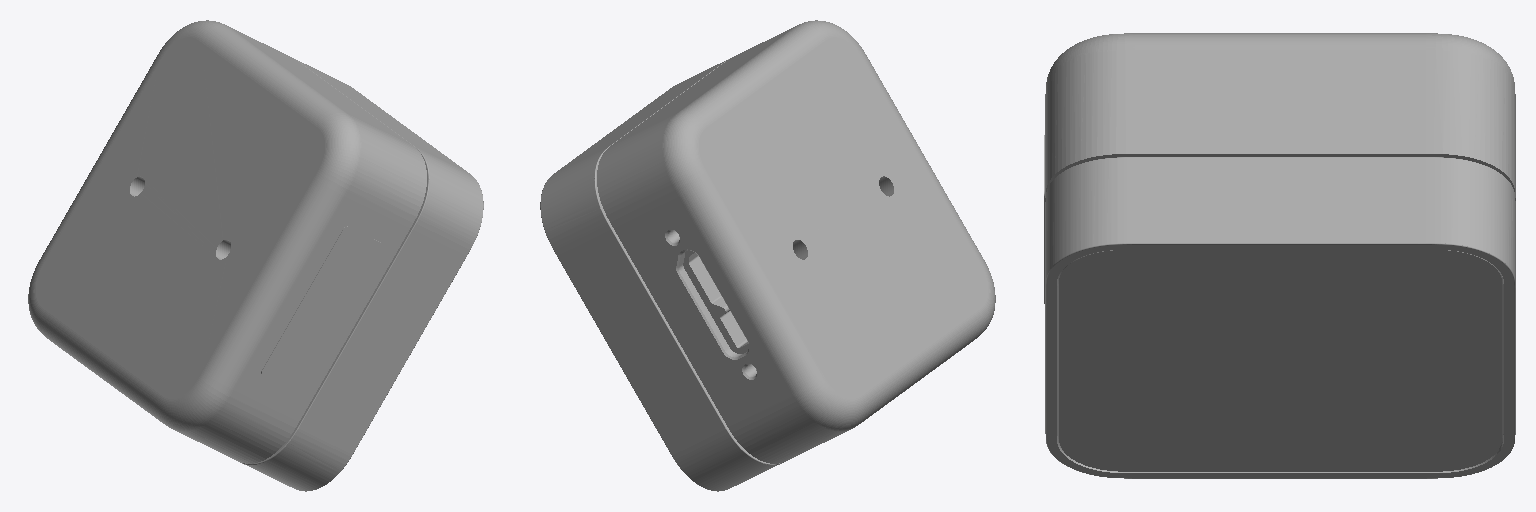
robot.urdf — converted_robot:
<?xml version="1.0" ?>
<robot name="converted_robot">
   <!--generated with mjcf_urdf_simple_converter (https://github.com/Yasu31/mjcf_urdf_simple_converter)-->
   <link name="world">
      <inertial>
         <origin xyz="0.0 0.0 0.0" rpy="0.0 0.0 0.0"/>
         <mass value="0.0"/>
         <inertia ixx="0.0" iyy="0.0" izz="0.0" ixy="0" ixz="0" iyz="0"/>
      </inertial>
   </link>
   <link name="left_arm">
      <inertial>
         <origin xyz="0.0 0.0 0.026" rpy="0.0 0.0 0.0"/>
         <mass value="0.21895644158459424"/>
         <inertia ixx="0.00013879124248906134" iyy="0.00013879124248906134" izz="0.00010282878735692499" ixy="0" ixz="0" iyz="0"/>
      </inertial>
      <visual name="model2">
         <origin xyz="-2.0738360577213484e-05 2.041311002275178e-05 0.01154286287615687" rpy="1.5701130102263443 0.005344186766801151 -3.1414365496107033"/>
         <geometry>
            <mesh filename="meshes/converted_model2_808080ff.obj"/>
         </geometry>
      </visual>
   </link>
   <joint type="fixed" name="world2left_arm_fixed">
      <parent link="world"/>
      <child link="left_arm"/>
      <origin xyz="0.0 0.0 0.0" rpy="0.0 0.0 0.0"/>
   </joint>
   <link name="left_link_1">
      <inertial>
         <origin xyz="-0.00192861 -0.00795735 0.0208176" rpy="1.6743480392523338 -0.6015439689011491 1.5666873963753192"/>
         <mass value="0.12415"/>
         <inertia ixx="0.000180751" iyy="0.000145532" izz="5.89179e-05" ixy="0" ixz="0" iyz="0"/>
      </inertial>
      <visual name="model2__2">
         <origin xyz="0.0007117901440024366 -0.008267794027987337 0.022250179687008112" rpy="1.5650454550240567 -0.6317582807873867 1.5710673633815686"/>
         <geometry>
            <mesh filename="meshes/converted_model2__2_808080ff.obj"/>
         </geometry>
      </visual>
   </link>
   <link name="left_joint1_jointbody">
      <inertial>
         <origin xyz="0.0 0.0 0.0" rpy="0.0 0.0 0.0"/>
         <mass value="0.001"/>
         <inertia ixx="1e-09" iyy="1e-09" izz="1e-09" ixy="0" ixz="0" iyz="0"/>
      </inertial>
   </link>
   <joint type="revolute" name="left_joint1">
      <parent link="left_arm"/>
      <child link="left_joint1_jointbody"/>
      <origin xyz="0.0 0.0 0.0631" rpy="0.0 0.0 1.5707963267948963"/>
      <axis xyz="0.0 0.0 1.0"/>
      <limit lower="-2.61799" upper="3.05433" effort="100" velocity="100"/>
   </joint>
   <joint type="fixed" name="left_joint1_offset">
      <parent link="left_joint1_jointbody"/>
      <child link="left_link_1"/>
      <origin xyz="-0.0 -0.0 -0.0" rpy="0.0 0.0 0.0"/>
   </joint>
   <link name="left_link_2">
      <inertial>
         <origin xyz="0.132008 2.10599e-06 0.000293073" rpy="1.5707963267948966 0.0 1.5707963267948966"/>
         <mass value="1.24434"/>
         <inertia ixx="0.0121902" iyy="0.0121318" izz="0.000683304" ixy="0" ixz="0" iyz="0"/>
      </inertial>
      <visual name="model2__3">
         <origin xyz="0.26007948449650414 2.5977632368834325e-07 0.00022869283697025413" rpy="0.0012886015838013758 0.0 1.5707963267948966"/>
         <geometry>
            <mesh filename="meshes/converted_model2__3_808080ff.obj"/>
         </geometry>
      </visual>
      <visual name="model2__4">
         <origin xyz="0.003920561027152974 2.5977629421192194e-07 0.00022869282878015162" rpy="-0.0012886020855807743 0.0 1.5707963267948966"/>
         <geometry>
            <mesh filename="meshes/converted_model2__4_808080ff.obj"/>
         </geometry>
      </visual>
      <visual name="model2__5">
         <origin xyz="0.1320117461361114 -1.306943646950387e-05 9.079293692478702e-08" rpy="1.5720341600620127 -1.5679213575591051 -1.5720413321413815"/>
         <geometry>
            <mesh filename="meshes/converted_model2__5_808080ff.obj"/>
         </geometry>
      </visual>
   </link>
   <link name="left_joint2_jointbody">
      <inertial>
         <origin xyz="0.0 0.0 0.0" rpy="0.0 0.0 0.0"/>
         <mass value="0.001"/>
         <inertia ixx="1e-09" iyy="1e-09" izz="1e-09" ixy="0" ixz="0" iyz="0"/>
      </inertial>
   </link>
   <joint type="revolute" name="left_joint2">
      <parent link="left_link_1"/>
      <child link="left_joint2_jointbody"/>
      <origin xyz="2.5e-05 -0.02 0.0409" rpy="1.5707963267948966 0.0 1.5707963267948966"/>
      <axis xyz="0.0 0.0 1.0"/>
      <limit lower="0.0" upper="3.66519" effort="100" velocity="100"/>
   </joint>
   <joint type="fixed" name="left_joint2_offset">
      <parent link="left_joint2_jointbody"/>
      <child link="left_link_2"/>
      <origin xyz="-0.0 -0.0 -0.0" rpy="0.0 0.0 0.0"/>
   </joint>
   <link name="left_link_3">
      <inertial>
         <origin xyz="-0.121816 -0.054846 -0.000111108" rpy="1.5707963267948966 0.0 1.5707963267948966"/>
         <mass value="0.853698"/>
         <inertia ixx="0.00699732" iyy="0.00696112" izz="0.000788244" ixy="0" ixz="0" iyz="0"/>
      </inertial>
      <visual name="model2__6">
         <origin xyz="-0.24063976713274154 -0.059999782142154706 -0.003760273578300405" rpy="3.0364915071378875 0.0 -1.5707963267948968"/>
         <geometry>
            <mesh filename="meshes/converted_model2__6_808080ff.obj"/>
         </geometry>
      </visual>
      <visual name="model2__7">
         <origin xyz="-0.007710009148021196 -0.03486048010433765 0.0347071645682882" rpy="-2.87879006743723 1.4720957652931421 1.6013719605643306"/>
         <geometry>
            <mesh filename="meshes/converted_model2__7_808080ff.obj"/>
         </geometry>
      </visual>
      <visual name="model2__8">
         <origin xyz="-0.1206720859561709 -0.06001334031535149 5.408345552423209e-07" rpy="1.5707945314613085 0.0026832997041226214 -1.570809065297576"/>
         <geometry>
            <mesh filename="meshes/converted_model2__8_808080ff.obj"/>
         </geometry>
      </visual>
      <visual name="model2__9">
         <origin xyz="-0.008240431625057998 -0.03737256683266851 -0.033699619180835645" rpy="0.28836143122615043 1.443690062944695 -1.515041718980295"/>
         <geometry>
            <mesh filename="meshes/converted_model2__9_808080ff.obj"/>
         </geometry>
      </visual>
   </link>
   <link name="left_joint3_jointbody">
      <inertial>
         <origin xyz="0.0 0.0 0.0" rpy="0.0 0.0 0.0"/>
         <mass value="0.001"/>
         <inertia ixx="1e-09" iyy="1e-09" izz="1e-09" ixy="0" ixz="0" iyz="0"/>
      </inertial>
   </link>
   <joint type="revolute" name="left_joint3">
      <parent link="left_link_2"/>
      <child link="left_joint3_jointbody"/>
      <origin xyz="0.264 0.0 0.0" rpy="3.141592653589793 0.0 0.0"/>
      <axis xyz="0.0 0.0 1.0"/>
      <limit lower="0.0" upper="3.66519" effort="100" velocity="100"/>
   </joint>
   <joint type="fixed" name="left_joint3_offset">
      <parent link="left_joint3_jointbody"/>
      <child link="left_link_3"/>
      <origin xyz="-0.0 -0.0 -0.0" rpy="0.0 0.0 0.0"/>
   </joint>
   <link name="left_link_4">
      <inertial>
         <origin xyz="-0.0769778 -0.0527104 0.000154878" rpy="1.5707963267948966 0.0 -0.6801532171449441"/>
         <mass value="0.463511"/>
         <inertia ixx="0.000791532" iyy="0.000744733" izz="0.000282116" ixy="0" ixz="0" iyz="0"/>
      </inertial>
      <visual name="model2__10">
         <origin xyz="-0.046776068687813616 -0.038270471745625256 -0.0008915243508352188" rpy="1.5394854457020648 0.021662003917252814 -0.7117475435376935"/>
         <geometry>
            <mesh filename="meshes/converted_model2__10_808080ff.obj"/>
         </geometry>
      </visual>
   </link>
   <link name="left_joint4_jointbody">
      <inertial>
         <origin xyz="0.0 0.0 0.0" rpy="0.0 0.0 0.0"/>
         <mass value="0.001"/>
         <inertia ixx="1e-09" iyy="1e-09" izz="1e-09" ixy="0" ixz="0" iyz="0"/>
      </inertial>
   </link>
   <joint type="revolute" name="left_joint4">
      <parent link="left_link_3"/>
      <child link="left_joint4_jointbody"/>
      <origin xyz="-0.245 -0.06 0.0" rpy="0.0 0.0 0.0"/>
      <axis xyz="0.0 0.0 1.0"/>
      <limit lower="-1.5708" upper="1.5708" effort="100" velocity="100"/>
   </joint>
   <joint type="fixed" name="left_joint4_offset">
      <parent link="left_joint4_jointbody"/>
      <child link="left_link_4"/>
      <origin xyz="-0.0 -0.0 -0.0" rpy="0.0 0.0 0.0"/>
   </joint>
   <link name="left_link_5">
      <inertial>
         <origin xyz="3.64861e-05 0.00025665 0.0353526" rpy="0.0 0.0 0.0"/>
         <mass value="0.350962"/>
         <inertia ixx="0.000197802" iyy="0.0001775" izz="0.000147402" ixy="0" ixz="0" iyz="0"/>
      </inertial>
      <visual name="model2__11">
         <origin xyz="5.815639855540116e-05 -0.0005553836621680353 0.03206235288381598" rpy="2.67318045036048 0.0016544870659682687 -0.01152938218496731"/>
         <geometry>
            <mesh filename="meshes/converted_model2__11_808080ff.obj"/>
         </geometry>
      </visual>
   </link>
   <link name="left_joint5_jointbody">
      <inertial>
         <origin xyz="0.0 0.0 0.0" rpy="0.0 0.0 0.0"/>
         <mass value="0.001"/>
         <inertia ixx="1e-09" iyy="1e-09" izz="1e-09" ixy="0" ixz="0" iyz="0"/>
      </inertial>
   </link>
   <joint type="revolute" name="left_joint5">
      <parent link="left_link_4"/>
      <child link="left_joint5_jointbody"/>
      <origin xyz="-0.074 -0.0395 2.5e-05" rpy="-1.5707963267948966 1.5707963267948966 0.0"/>
      <axis xyz="0.0 0.0 1.0"/>
      <limit lower="-1.5708" upper="1.5708" effort="100" velocity="100"/>
   </joint>
   <joint type="fixed" name="left_joint5_offset">
      <parent link="left_joint5_jointbody"/>
      <child link="left_link_5"/>
      <origin xyz="-0.0 -0.0 -0.0" rpy="0.0 0.0 0.0"/>
   </joint>
   <link name="left_link_6">
      <inertial>
         <origin xyz="-0.000217767 7.37059e-05 0.0270545" rpy="1.5707963267948963 0.0 0.0"/>
         <mass value="0.367476"/>
         <inertia ixx="0.000265958" iyy="0.000242686" izz="0.000227409" ixy="0" ixz="0" iyz="0"/>
      </inertial>
      <visual name="model2__12">
         <origin xyz="8.788302043375991e-05 0.0001190912220788709 0.05116721790419726" rpy="-1.7453668887584697 1.565490971850807 -1.9699125405676954"/>
         <geometry>
            <mesh filename="meshes/converted_model2__12_808080ff.obj"/>
         </geometry>
      </visual>
      <visual name="model2__13">
         <origin xyz="-0.00017825474995774047 1.6195054943213272e-05 0.03422382038141725" rpy="-1.5799559470247646 0.8170286688385331 -0.14641337505452354"/>
         <geometry>
            <mesh filename="meshes/converted_model2__13_808080ff.obj"/>
         </geometry>
      </visual>
   </link>
   <link name="left_joint6_jointbody">
      <inertial>
         <origin xyz="0.0 0.0 0.0" rpy="0.0 0.0 0.0"/>
         <mass value="0.001"/>
         <inertia ixx="1e-09" iyy="1e-09" izz="1e-09" ixy="0" ixz="0" iyz="0"/>
      </inertial>
   </link>
   <joint type="revolute" name="left_joint6">
      <parent link="left_link_5"/>
      <child link="left_joint6_jointbody"/>
      <origin xyz="0.0 0.0353 0.0395" rpy="-1.5707963267948963 0.0 0.0"/>
      <axis xyz="0.0 0.0 1.0"/>
      <limit lower="-2.0944" upper="2.0944" effort="100" velocity="100"/>
   </joint>
   <joint type="fixed" name="left_joint6_offset">
      <parent link="left_joint6_jointbody"/>
      <child link="left_link_6"/>
      <origin xyz="-0.0 -0.0 -0.0" rpy="0.0 0.0 0.0"/>
   </joint>
   <link name="left_tcp">
      <inertial>
         <origin xyz="0.0 0.0 0.0" rpy="0.0 0.0 3.141592653589793"/>
         <mass value="0.0"/>
         <inertia ixx="0.0" iyy="0.0" izz="0.0" ixy="0" ixz="0" iyz="0"/>
      </inertial>
   </link>
   <joint type="fixed" name="left_link_62left_tcp_fixed">
      <parent link="left_link_6"/>
      <child link="left_tcp"/>
      <origin xyz="0.0 0.0 0.0" rpy="0.0 0.0 3.141592653589793"/>
   </joint>
   <link name="left_left_link_finger">
      <inertial>
         <origin xyz="-0.0192995 -0.0365902 0.039774" rpy="1.4011563087563854 -0.506094968208646 -0.4294050756265071"/>
         <mass value="0.118"/>
         <inertia ixx="0.000159084" iyy="0.000154909" izz="4.63655e-05" ixy="0" ixz="0" iyz="0"/>
      </inertial>
      <visual name="model2__14">
         <origin xyz="-0.02621919095860112 -0.050961301789609365 0.04847966761952425" rpy="1.2436149090470108 -1.3351755324428634 3.1192068678405445"/>
         <geometry>
            <mesh filename="meshes/converted_model2__14_808080ff.obj"/>
         </geometry>
      </visual>
      <visual name="model2__15">
         <origin xyz="-0.0018267628293356375 -0.014013453565219658 0.02860778296204746" rpy="-0.08499655397451025 -0.08210615684708134 0.012014286826329146"/>
         <geometry>
            <mesh filename="meshes/converted_model2__15_808080ff.obj"/>
         </geometry>
      </visual>
   </link>
   <link name="left_left_finger_jointbody">
      <inertial>
         <origin xyz="0.0 0.0 0.0" rpy="0.0 0.0 0.0"/>
         <mass value="0.001"/>
         <inertia ixx="1e-09" iyy="1e-09" izz="1e-09" ixy="0" ixz="0" iyz="0"/>
      </inertial>
   </link>
   <joint type="fixed" name="left_left_finger">
      <parent link="left_link_6"/>
      <child link="left_left_finger_jointbody"/>
      <origin xyz="-0.037 0.0392 0.0605" rpy="-0.0 1.5707963267948966 0.0"/>
   </joint>
   <joint type="fixed" name="left_left_finger_offset">
      <parent link="left_left_finger_jointbody"/>
      <child link="left_left_link_finger"/>
      <origin xyz="-0.0 -0.0 -0.0" rpy="0.0 0.0 0.0"/>
   </joint>
   <link name="left_lf_rot">
      <inertial>
         <origin xyz="-0.008421052631578949 -0.015789473684210527 0.020421052631578947" rpy="2.0371972904739044 0.3450347438073702 1.578176982162618"/>
         <mass value="0.039793506945470715"/>
         <inertia ixx="2.3910377025971746e-05" iyy="2.073020409924441e-05" izz="5.660175354997655e-06" ixy="0" ixz="0" iyz="0"/>
      </inertial>
   </link>
   <joint type="fixed" name="left_left_link_finger2left_lf_rot_fixed">
      <parent link="left_left_link_finger"/>
      <child link="left_lf_rot"/>
      <origin xyz="0.0 -0.0392 0.037" rpy="-1.5707963267948966 0.0 1.5707963267948966"/>
   </joint>
   <link name="left_lf_down">
      <inertial>
         <origin xyz="0.004865675005941529 -0.012786258560154471 0.029346031921652322" rpy="0.2519292544694713 0.2603701794465012 1.7911530895748669"/>
         <mass value="0.02077574023677297"/>
         <inertia ixx="1.576706728050404e-05" iyy="1.3071053959973094e-05" izz="3.9436752750553725e-06" ixy="0" ixz="0" iyz="0"/>
      </inertial>
   </link>
   <joint type="fixed" name="left_lf_rot2left_lf_down_fixed">
      <parent link="left_lf_rot"/>
      <child link="left_lf_down"/>
      <origin xyz="-0.044 0.0 0.0" rpy="0.0 0.0 0.0"/>
   </joint>
   <link name="left_right_link_finger">
      <inertial>
         <origin xyz="-0.0192995 0.0365902 -0.039774" rpy="-1.4011563087563854 0.5060949682086462 -0.4294050756265071"/>
         <mass value="0.118"/>
         <inertia ixx="0.000159084" iyy="0.000154909" izz="4.63655e-05" ixy="0" ixz="0" iyz="0"/>
      </inertial>
      <visual name="model2__16">
         <origin xyz="-0.001826763203738313 0.014013021507929144 -0.02860778467768097" rpy="-0.08499624911644794 0.08210615585822456 -0.012014239544932078"/>
         <geometry>
            <mesh filename="meshes/converted_model2__16_808080ff.obj"/>
         </geometry>
      </visual>
      <visual name="model2__17">
         <origin xyz="-0.026152342123741346 0.026813733867866105 -0.04844908896546901" rpy="-1.8906094630983066 -1.338715519977303 -0.013733131456833558"/>
         <geometry>
            <mesh filename="meshes/converted_model2__17_808080ff.obj"/>
         </geometry>
      </visual>
   </link>
   <link name="left_right_finger_jointbody">
      <inertial>
         <origin xyz="0.0 0.0 0.0" rpy="0.0 0.0 0.0"/>
         <mass value="0.001"/>
         <inertia ixx="1e-09" iyy="1e-09" izz="1e-09" ixy="0" ixz="0" iyz="0"/>
      </inertial>
   </link>
   <joint type="fixed" name="left_right_finger">
      <parent link="left_link_6"/>
      <child link="left_right_finger_jointbody"/>
      <origin xyz="0.037 -0.0392 0.0605" rpy="-0.0 1.5707963267948966 0.0"/>
   </joint>
   <joint type="fixed" name="left_right_finger_offset">
      <parent link="left_right_finger_jointbody"/>
      <child link="left_right_link_finger"/>
      <origin xyz="-0.0 -0.0 -0.0" rpy="0.0 0.0 0.0"/>
   </joint>
   <link name="left_rf_rot">
      <inertial>
         <origin xyz="0.008421052631578949 -0.015789473684210527 0.020421052631578947" rpy="1.1043953631158887 0.3450347438073702 1.5634156714271752"/>
         <mass value="0.039793506945470715"/>
         <inertia ixx="2.3910377025971746e-05" iyy="2.073020409924441e-05" izz="5.660175354997655e-06" ixy="0" ixz="0" iyz="0"/>
      </inertial>
   </link>
   <joint type="fixed" name="left_right_link_finger2left_rf_rot_fixed">
      <parent link="left_right_link_finger"/>
      <child link="left_rf_rot"/>
      <origin xyz="0.0 0.0392 -0.037" rpy="1.5707963267948966 0.0 -1.5707963267948966"/>
   </joint>
   <link name="left_rf_down">
      <inertial>
         <origin xyz="-0.004865675005941529 -0.012786258560154471 0.029346031921652322" rpy="-0.2519292544694713 0.2603701794465012 1.3504395640149265"/>
         <mass value="0.02077574023677297"/>
         <inertia ixx="1.576706728050404e-05" iyy="1.3071053959973094e-05" izz="3.9436752750553725e-06" ixy="0" ixz="0" iyz="0"/>
      </inertial>
   </link>
   <joint type="fixed" name="left_rf_rot2left_rf_down_fixed">
      <parent link="left_rf_rot"/>
      <child link="left_rf_down"/>
      <origin xyz="0.044 0.0 0.0" rpy="0.0 0.0 0.0"/>
   </joint>
   <link name="left_camera_d405">
      <inertial>
         <origin xyz="5.836344222936564e-05 6.962318781131341e-06 -0.01113196181391871" rpy="3.141592653589793 -1.5680728903816639 0.0"/>
         <mass value="0.041626485095382235"/>
         <inertia ixx="1.1629701774404652e-05" iyy="7.679969361232551e-06" izz="7.623182580331213e-06" ixy="0" ixz="0" iyz="0"/>
      </inertial>
      <visual name="camera_d405">
         <origin xyz="5.836344222936564e-05 6.962318781131341e-06 -0.01113196181391871" rpy="3.141592653589793 -1.5680728903817862 0.0"/>
         <geometry>
            <mesh filename="meshes/converted_camera_d405_cad1eeff.obj"/>
         </geometry>
      </visual>
      <visual name="camera_d405">
         <origin xyz="5.836344222936564e-05 6.962318781131341e-06 -0.01113196181391871" rpy="3.141592653589793 -1.5680728903817862 0.0"/>
         <geometry>
            <mesh filename="meshes/converted_camera_d405_808080ff.obj"/>
         </geometry>
      </visual>
   </link>
   <joint type="fixed" name="left_link_62left_camera_d405_fixed">
      <parent link="left_link_6"/>
      <child link="left_camera_d405"/>
      <origin xyz="-0.0107 0.079729 0.066021" rpy="0.6108652095229954 0.0 0.0"/>
   </joint>
   <link name="left_camera_frame">
      <inertial>
         <origin xyz="0.009 0.0 0.0" rpy="0.0 0.0 3.141592653589793"/>
         <mass value="0.0"/>
         <inertia ixx="0.0" iyy="0.0" izz="0.0" ixy="0" ixz="0" iyz="0"/>
      </inertial>
   </link>
   <joint type="fixed" name="left_camera_d4052left_camera_frame_fixed">
      <parent link="left_camera_d405"/>
      <child link="left_camera_frame"/>
      <origin xyz="0.009 0.0 0.0" rpy="0.0 0.0 3.141592653589793"/>
   </joint>
</robot>

--- Render facts (derived) ---
3 views of the same robot in one strip: view 1: azimuth 30°, elevation 25°; view 2: azimuth 150°, elevation 25°; view 3: azimuth 270°, elevation 25° (orthographic).
Model converted_robot with 25 links and 24 joints (6 revolute, 18 fixed), rooted at world, posed all joints at 0.
Links seen in each view (by area): view 1: left_camera_d405; view 2: left_camera_d405; view 3: left_camera_d405.
Boxes of the visible links, x1,y1,x2,y2 form: left_camera_d405: [28, 20, 483, 491]; left_camera_d405: [540, 20, 995, 491]; left_camera_d405: [1044, 33, 1515, 478].
Size in the robot's own frame: 0.0417 by 0.0421 by 0.0464 metres.
2 mesh visuals loaded from 19 distinct referenced files (2 OBJ); not drawn: 17 (reference not matched to a file when rendering).